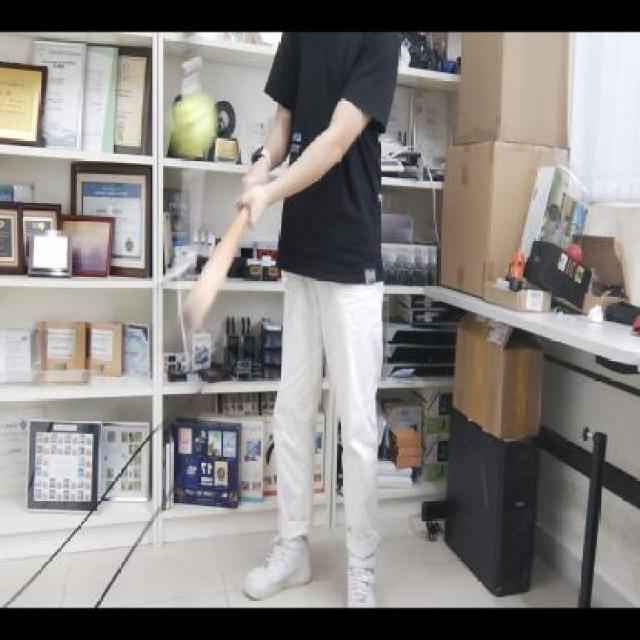baseball: (168, 90, 222, 156)
